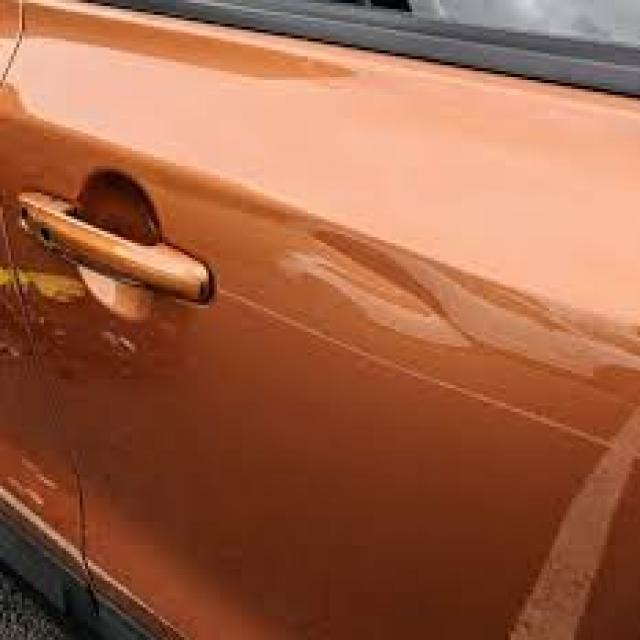dent-or-scratch: (295, 212, 477, 362)
